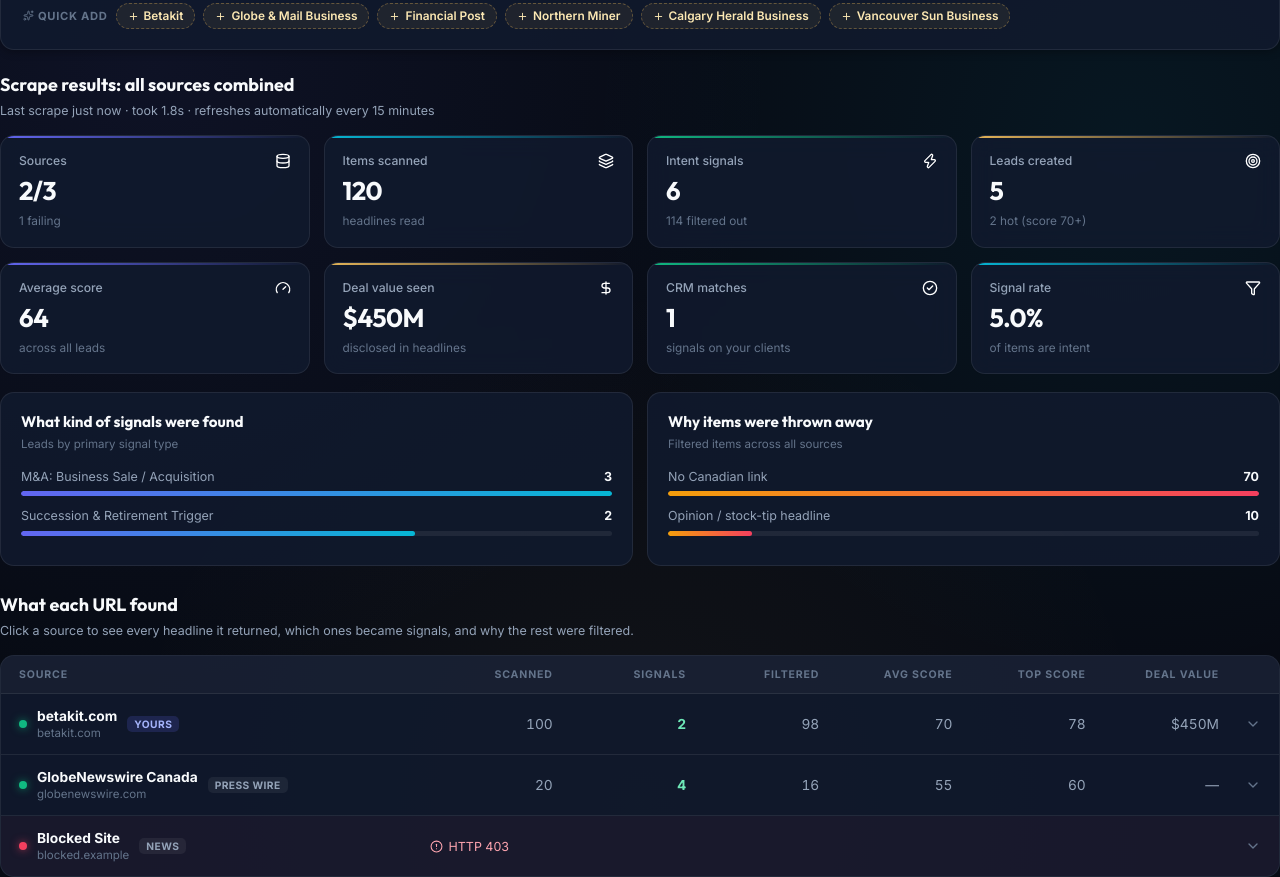
it: SourceIntelligenceView › expands a source to show which headlines became signals and why others were filtered
(page scrolled)
Click the button with aria-label "betakit.com details": [77, 716] box [1,694,1279,754]
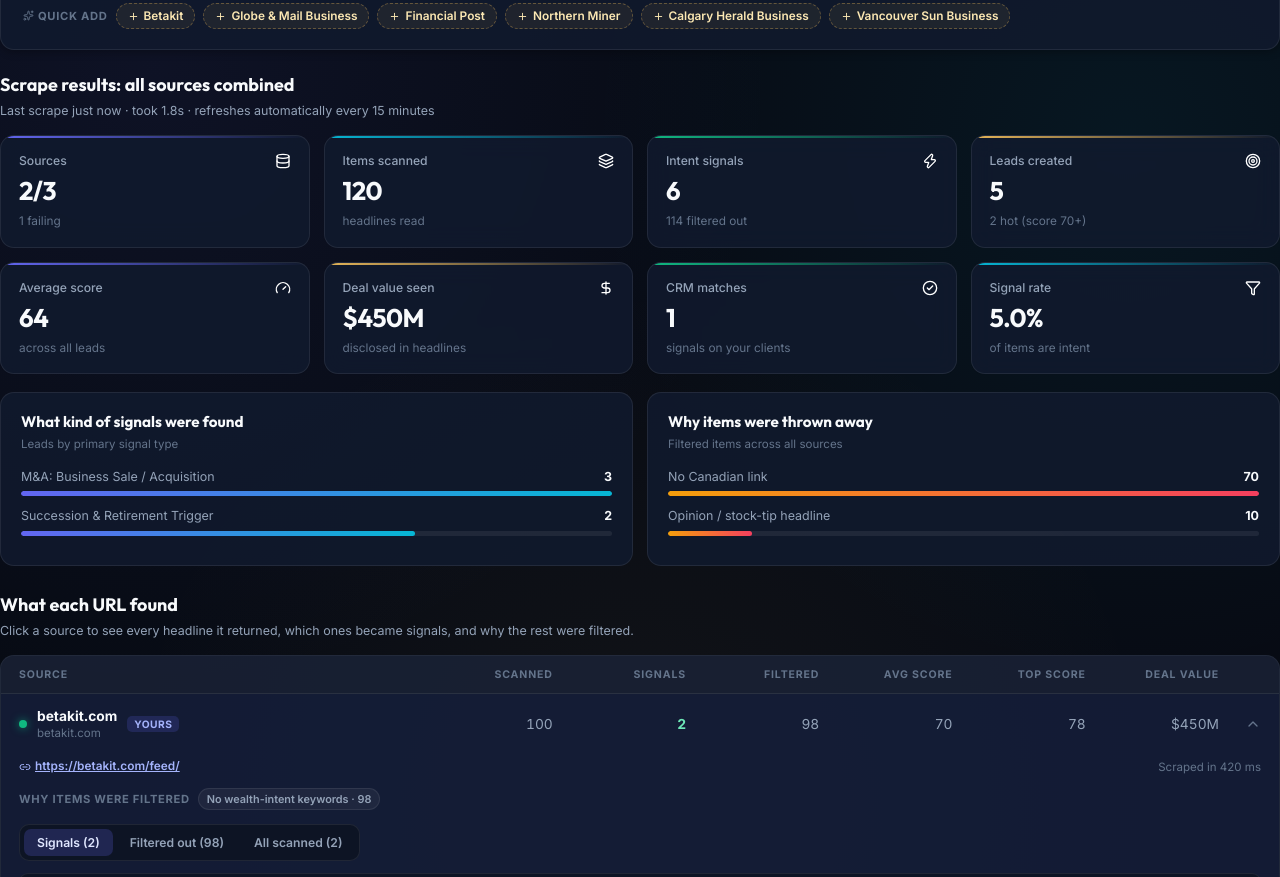
Click the tab "Filtered out (98)": [177, 843] box [117,830,237,856]
(page scrolled)
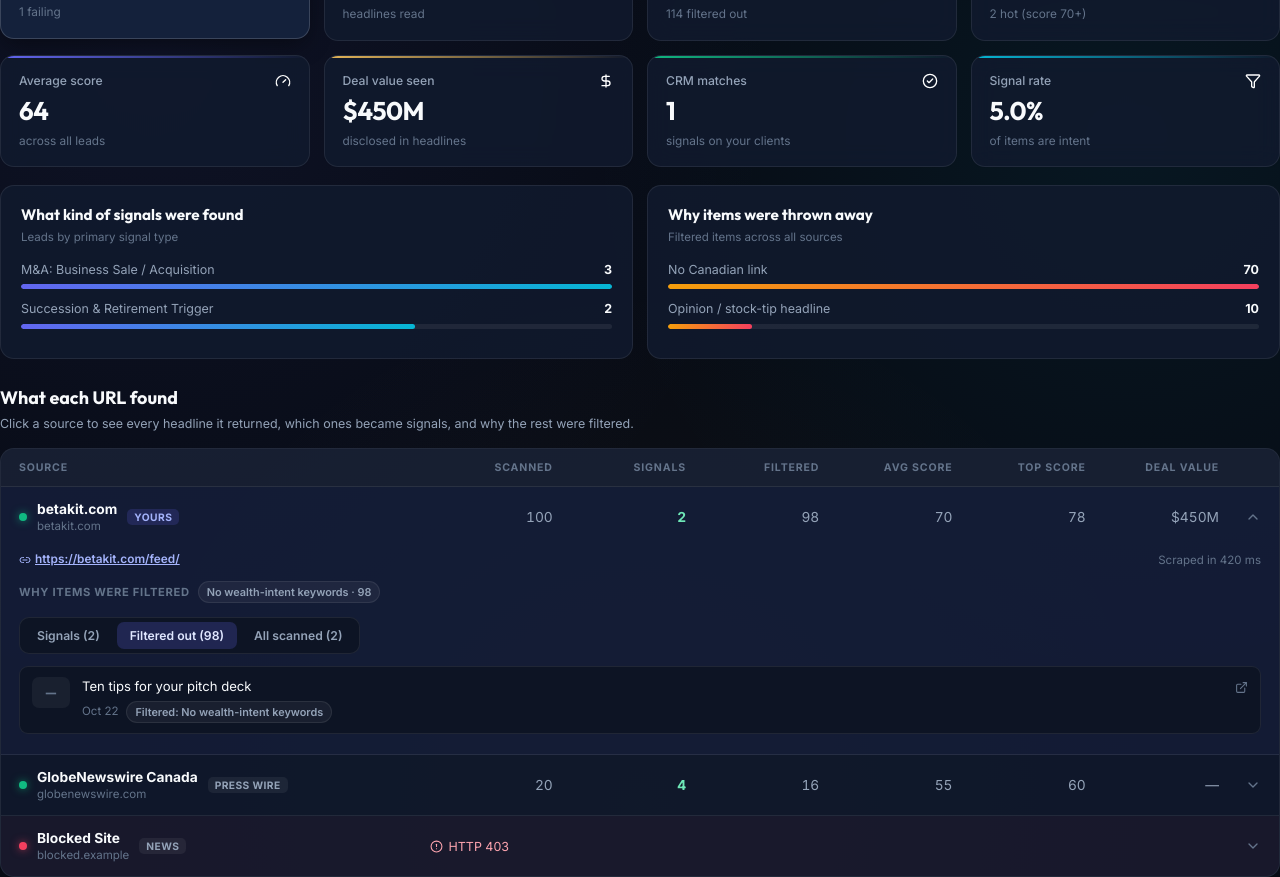
Now the text "Ten tips for your pitch deck" is shown, box [82,678,252,694]
Now the text "Filtered: No wealth-intent keywords" is shown, box [126,701,332,723]
